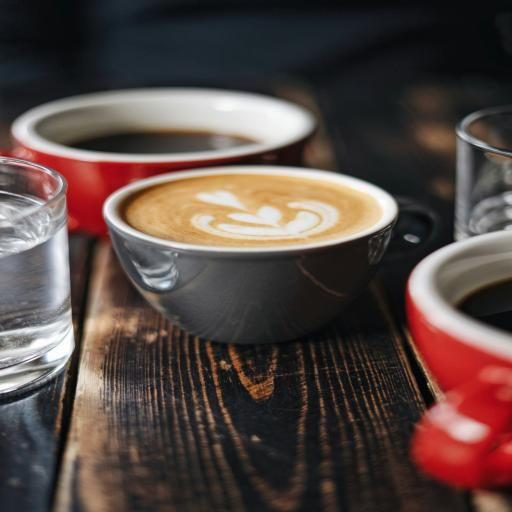cup: (0, 86, 319, 235), (408, 228, 512, 488)
